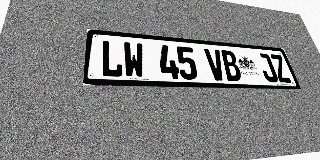4: (158, 45, 180, 79)
5: (176, 46, 199, 80)
B: (220, 50, 243, 81)
J: (256, 53, 279, 82)
L: (100, 40, 123, 78)
V: (204, 48, 227, 81)
W: (123, 42, 145, 78)
Z: (269, 54, 292, 83)
